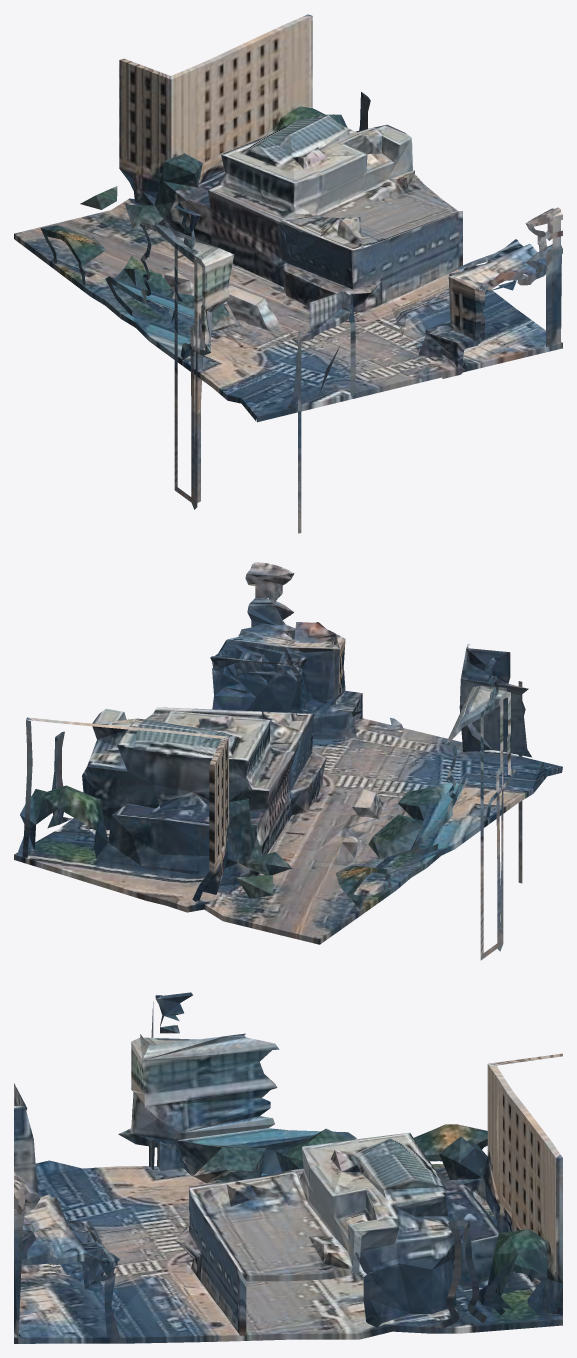
The model's file is chunk_-4_-8.glb.
3 renders of one model, top to bottom at view 1: azimuth 30°, elevation 25°; view 2: azimuth 150°, elevation 25°; view 3: azimuth 270°, elevation 25°, orthographic. The views are drawn at different scales.
Parts seen in each view (by area): view 1: hero-chunk; view 2: hero-chunk; view 3: hero-chunk.
Part boxes in pixels (left/top/right/bottom): hero-chunk: left=14, top=14, right=562, bottom=533; hero-chunk: left=14, top=562, right=562, bottom=960; hero-chunk: left=14, top=992, right=562, bottom=1343.
Bounding box in the file's own units: 56.34 × 51.62 × 76.32.
2 materials, 2 textured.
